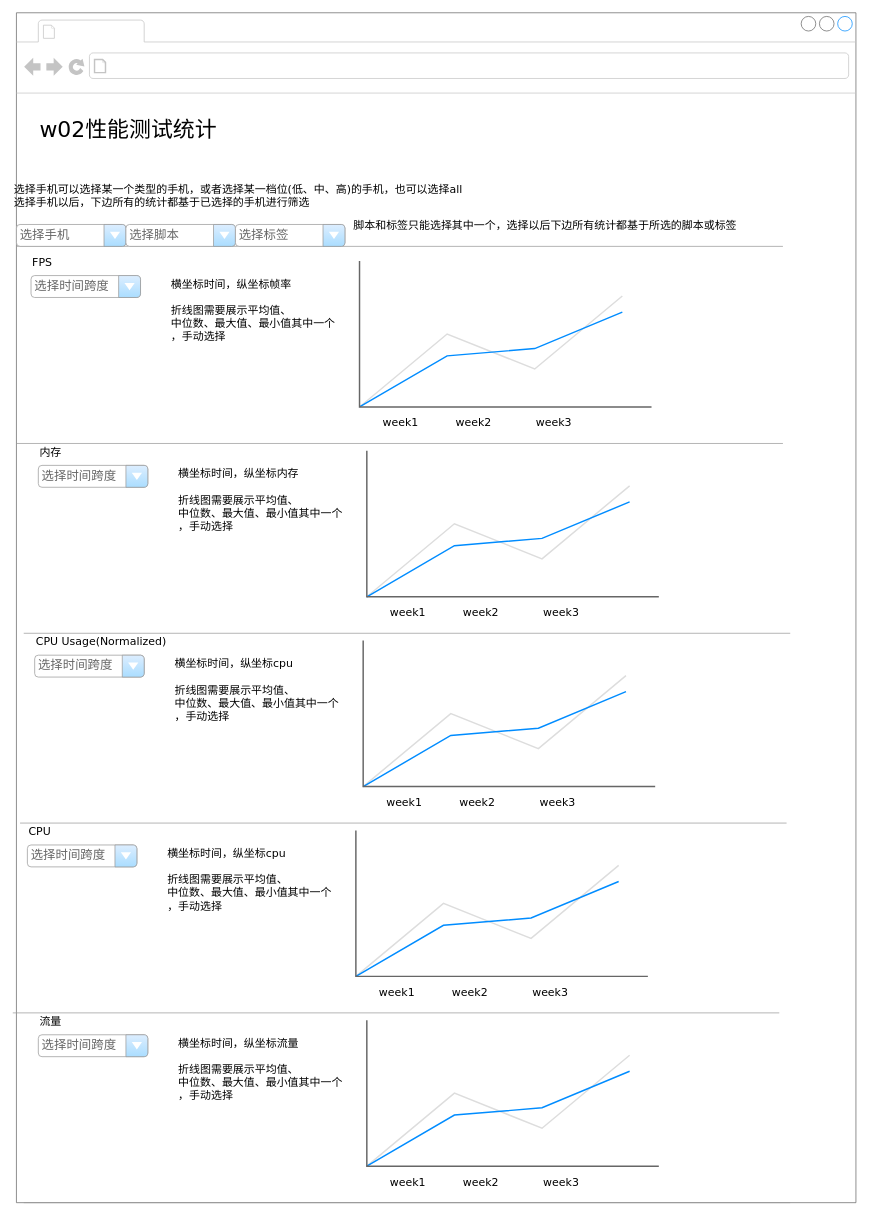
The diagram is 869 pixels wide and 1223 high, and some of its shapes have lost their labels. Here are the shapes that lost their labels. From the top down, the box of each, then its label:
(59, 21, 141, 41): 性能测试
(111, 56, 294, 76): https://www.default.com
